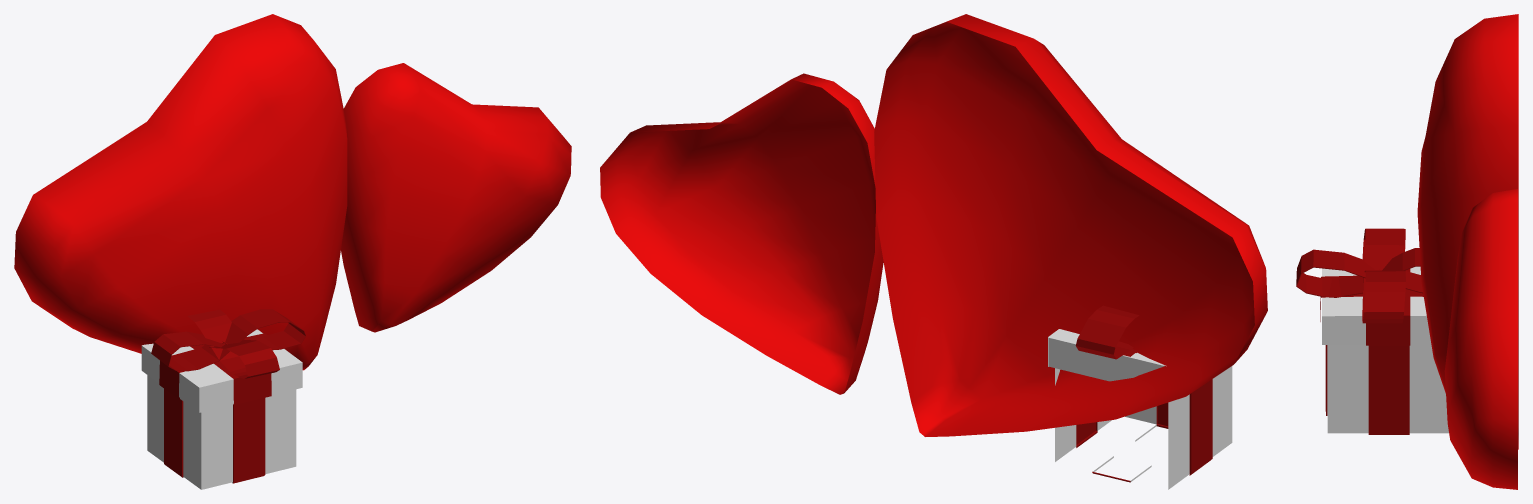
Rendered from anniversary.fbx.
3 views of the same model, side by side, from view 1: azimuth 30°, elevation 25°; view 2: azimuth 150°, elevation 25°; view 3: azimuth 270°, elevation 25° (orthographic). The views are drawn at different scales.
Visible parts, largest first — view 1: pCube8, pCube9, polySurface443; view 2: pCube8, pCube9, polySurface443, polySurface448; view 3: polySurface443, pCube8, pCube9.
Boxes of the visible parts, x1,y1,x2,y2 form: pCube8: (14,14,347,370); pCube9: (341,63,571,332); polySurface443: (141,309,305,489); pCube8: (874,14,1267,436); pCube9: (600,73,883,394); polySurface443: (1048,305,1232,489); polySurface448: (1048,337,1164,381); polySurface443: (1296,228,1448,434); pCube8: (1417,14,1518,449); pCube9: (1444,189,1517,489).
Size of the model in its own units: 10.29 by 6.77 by 3.17.
